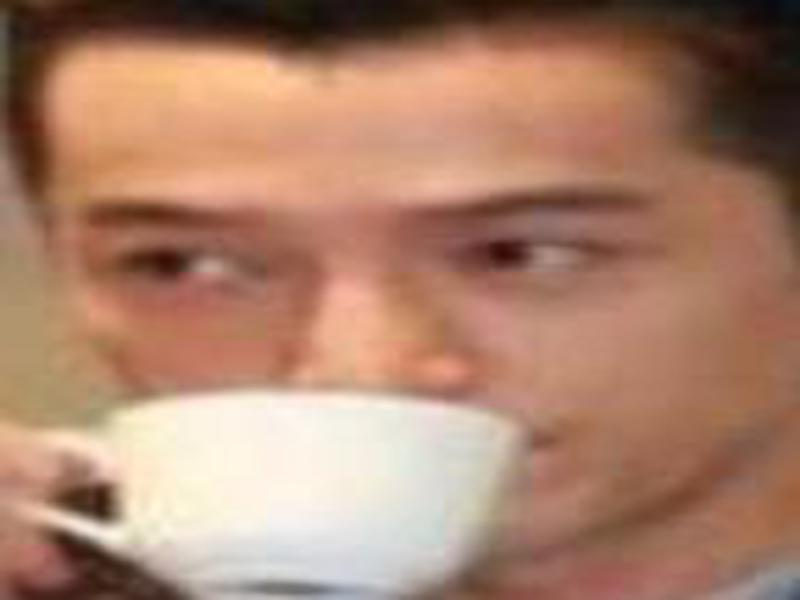without_mask: (34, 23, 751, 557)
